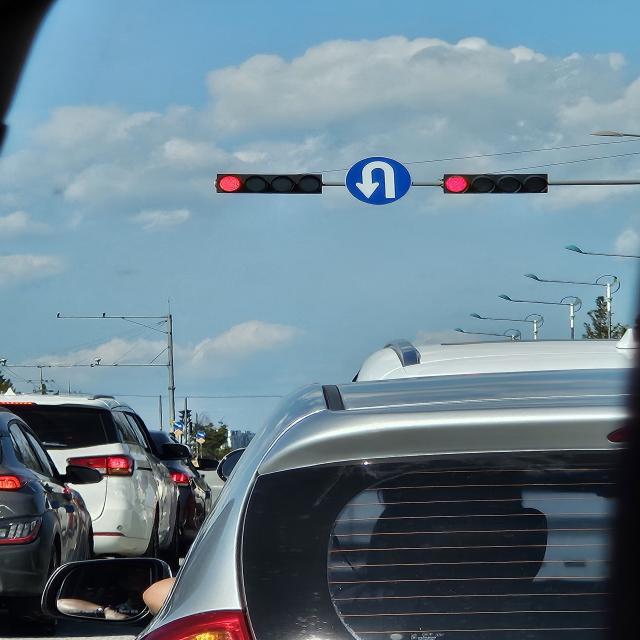Red Light: (444, 175, 470, 194), (217, 174, 242, 193)
